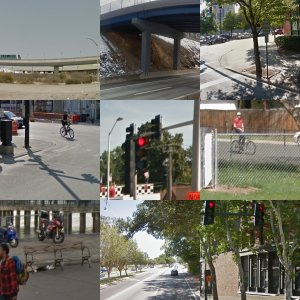公車: (200, 220, 267, 293), (3, 222, 99, 264), (31, 117, 88, 154)
汽車: (132, 203, 199, 234)
腳踏車: (200, 14, 236, 88)
